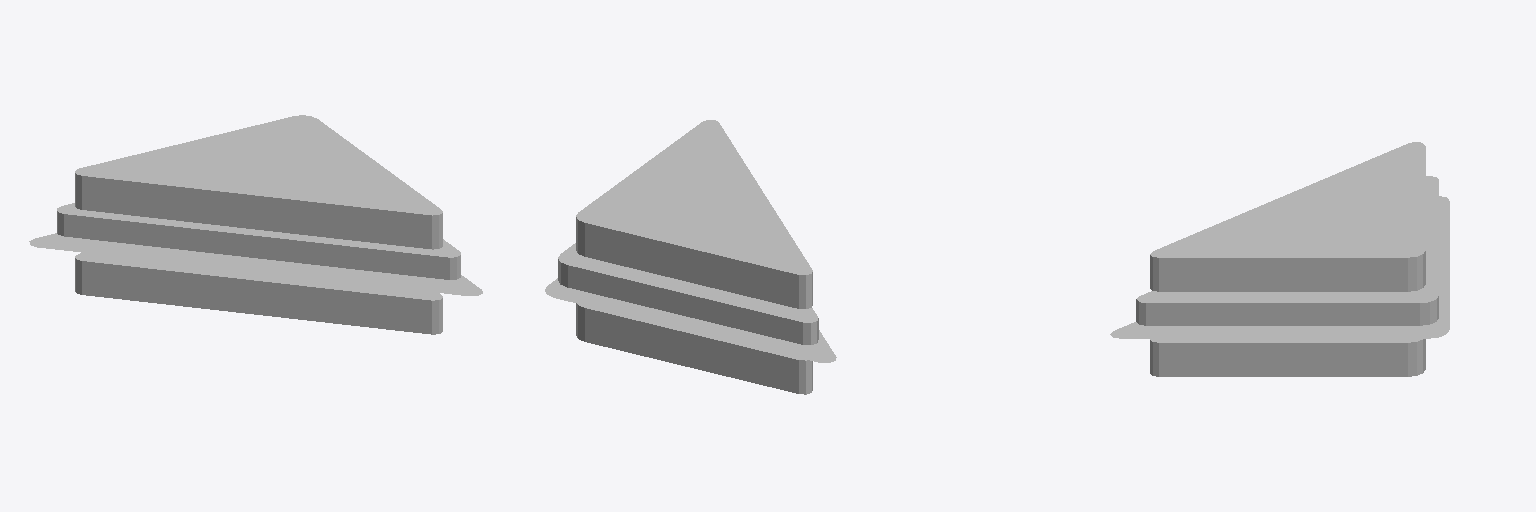
File: sandwich.obj
3 renders of one model, left to right at view 1: azimuth 30°, elevation 25°; view 2: azimuth 150°, elevation 25°; view 3: azimuth 270°, elevation 25°, orthographic.
Visible parts, largest first — view 1: bun, meat, lettuce; view 2: bun, meat, lettuce; view 3: bun, meat, lettuce.
Part boxes in pixels (bbox=[...]): bun: bbox=[75, 115, 442, 334]; meat: bbox=[57, 203, 460, 279]; lettuce: bbox=[29, 233, 482, 295]; bun: bbox=[576, 120, 812, 394]; meat: bbox=[558, 243, 818, 344]; lettuce: bbox=[545, 278, 836, 362]; bun: bbox=[1150, 142, 1425, 376]; meat: bbox=[1136, 176, 1438, 325]; lettuce: bbox=[1110, 196, 1449, 338].
Size of the model in its own units: 0.4323 by 0.168 by 0.4339.